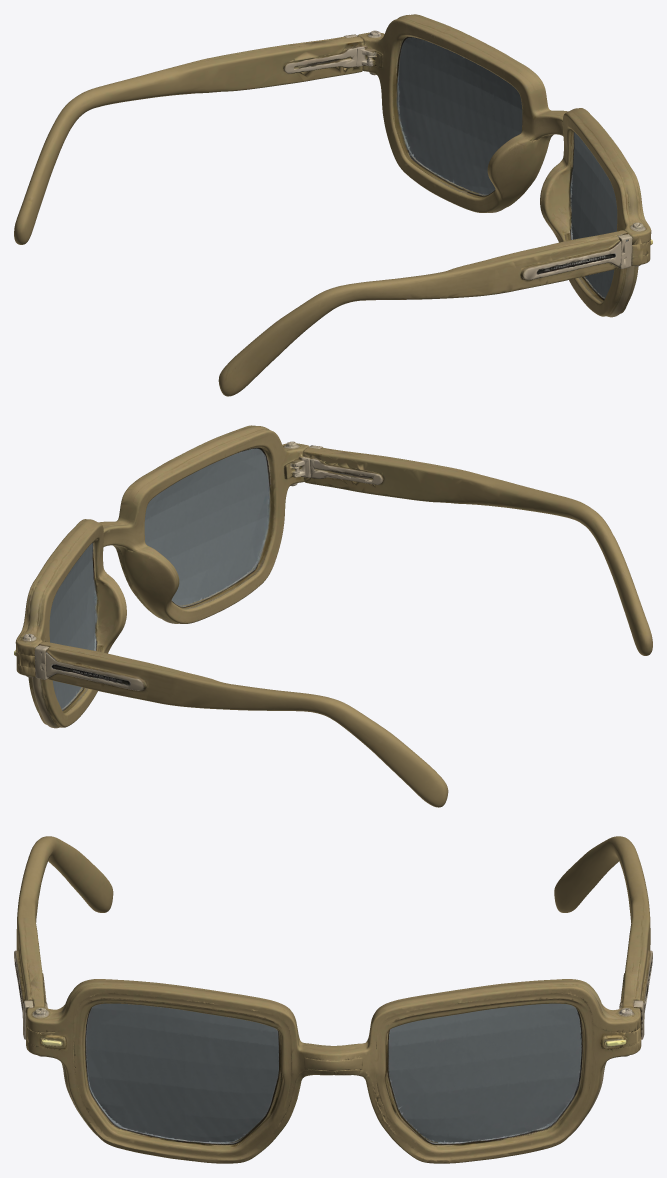
Rendered from glasses-web.glb.
3 renders of one model, top to bottom at view 1: azimuth 30°, elevation 25°; view 2: azimuth 150°, elevation 25°; view 3: azimuth 270°, elevation 25°, orthographic. The views are drawn at different scales.
Parts seen in each view (by area): view 1: tripo_node_43457b1e-52f6-4509-b47d-eb60c7edd7e5; view 2: tripo_node_43457b1e-52f6-4509-b47d-eb60c7edd7e5; view 3: tripo_node_43457b1e-52f6-4509-b47d-eb60c7edd7e5.
Boxes of the visible parts, left/top/right/bottom form: tripo_node_43457b1e-52f6-4509-b47d-eb60c7edd7e5: left=14, top=14, right=652, bottom=396; tripo_node_43457b1e-52f6-4509-b47d-eb60c7edd7e5: left=14, top=425, right=652, bottom=807; tripo_node_43457b1e-52f6-4509-b47d-eb60c7edd7e5: left=14, top=836, right=652, bottom=1163.
Bounding box in the file's own units: 0.1529 × 0.05 × 0.1635.
1 material, 1 textured.
